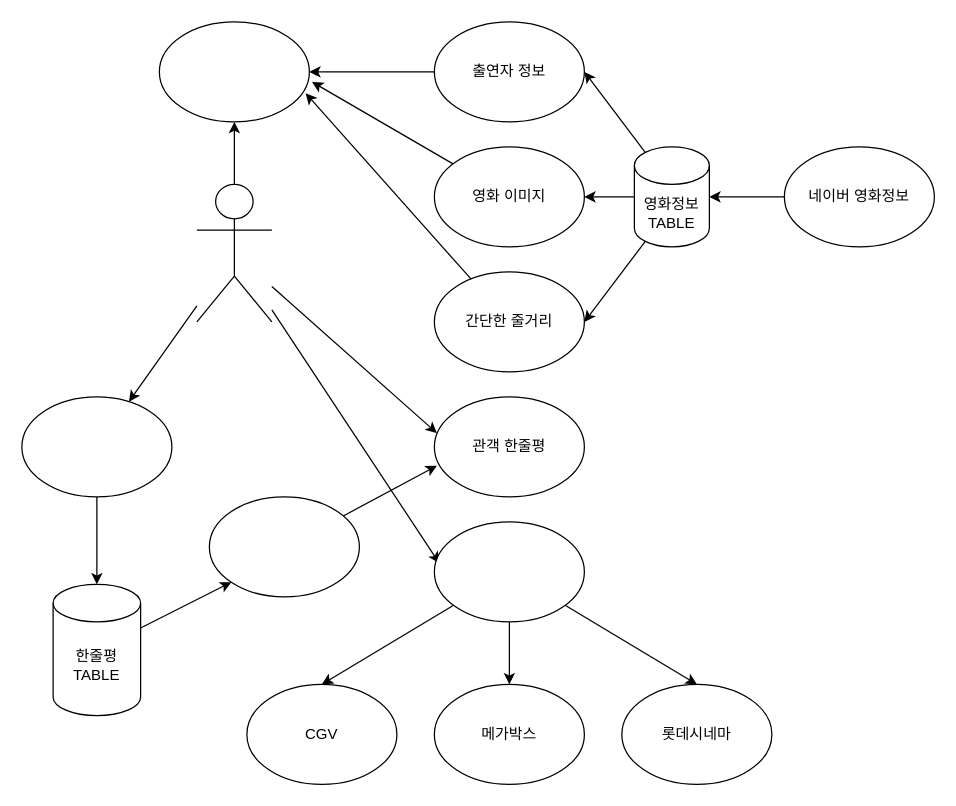
The diagram is 956 pixels wide and 806 high, and some of its shapes have lost their labels. Each missing label, with the centre of its shape:
"USER" goes at (234,252).
"영화 정보" goes at (233,71).
"예약 시스템" goes at (508,571).
"한줄평" goes at (96,446).
"한줄평 관리" goes at (283,546).
